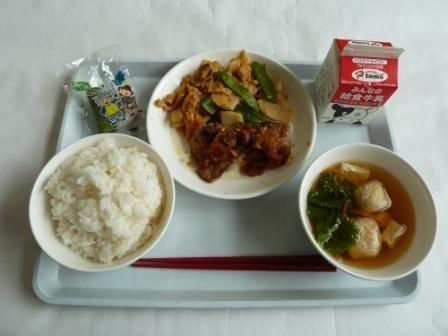Milk: (305, 30, 403, 123)
Rice: (23, 130, 177, 270)
Soups: (296, 134, 438, 279)
cooked food based on meat: (184, 119, 304, 186)
vegetable based cooked food: (172, 51, 309, 132)
